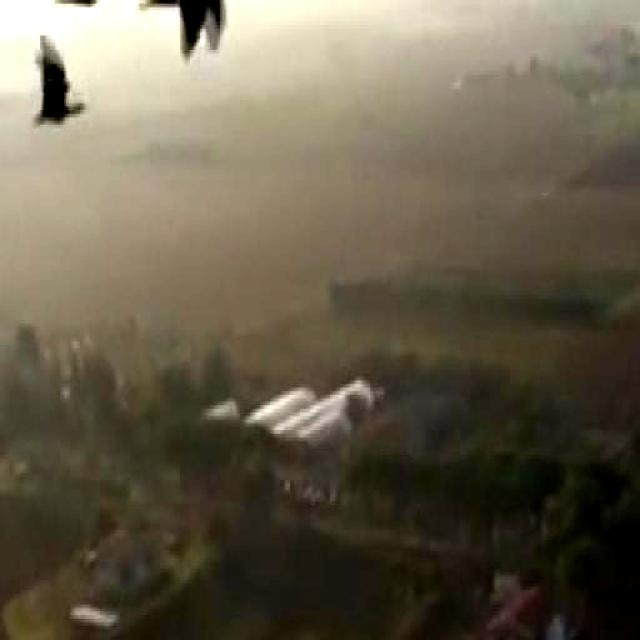airplane: (32, 30, 86, 138), (145, 0, 238, 62)
